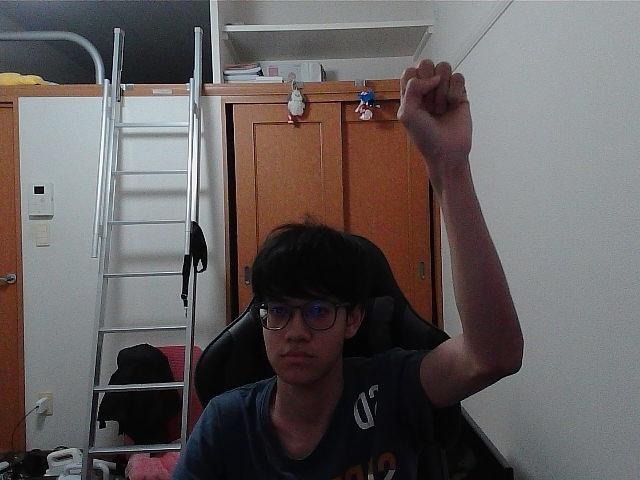closed_palm: (409, 66, 459, 153)
